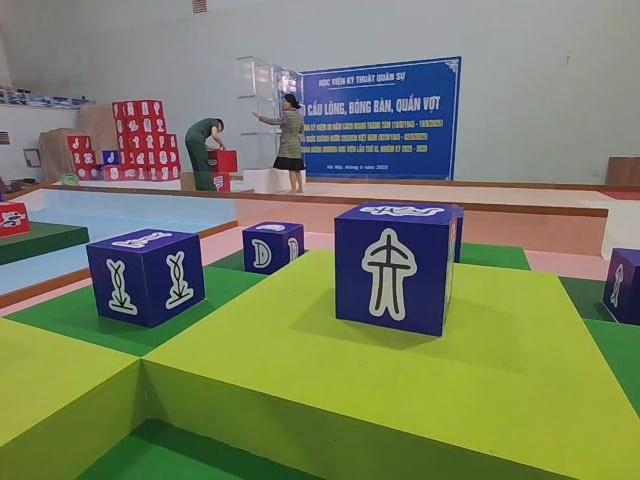R2 Fake Blue: (337, 202, 466, 341)
R2 Real Blue: (86, 229, 205, 330), (242, 223, 306, 278), (603, 247, 640, 331)
